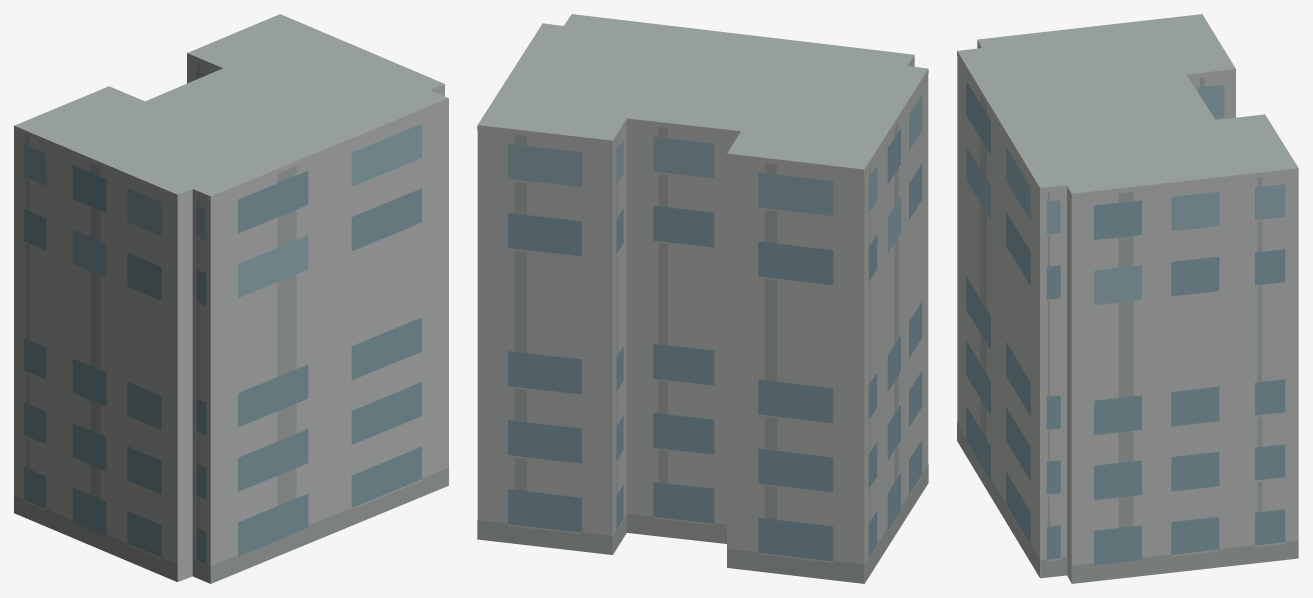
File: survey-upis-32651755.glb
3 renders of one model, left to right at view 1: azimuth 30°, elevation 25°; view 2: azimuth 150°, elevation 25°; view 3: azimuth 270°, elevation 25°, orthographic. The views are drawn at different scales.
Visible parts, largest first — view 1: survey-upis-32651755.tmp; view 2: survey-upis-32651755.tmp; view 3: survey-upis-32651755.tmp.
Part boxes in pixels (box(x1,y1,x2,y2)): survey-upis-32651755.tmp: box(14, 14, 448, 583); survey-upis-32651755.tmp: box(477, 14, 928, 583); survey-upis-32651755.tmp: box(957, 14, 1298, 583).
Bounding box in the file's own units: 18.98 × 19.2 × 15.25.
